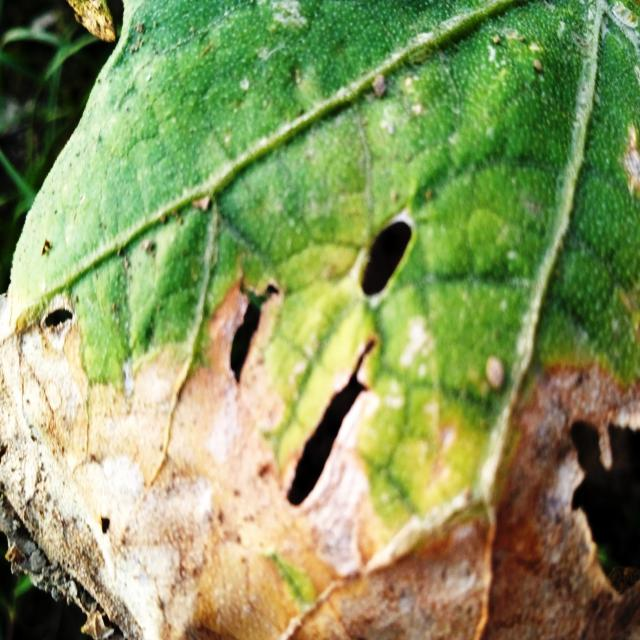Anthracnose: (282, 326, 377, 509), (224, 264, 281, 389), (353, 211, 417, 302), (37, 303, 79, 333)
